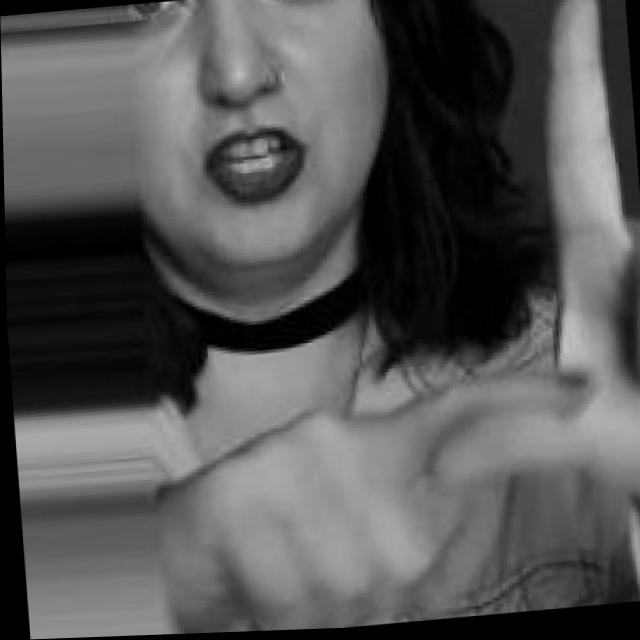J: (339, 0, 640, 617)
